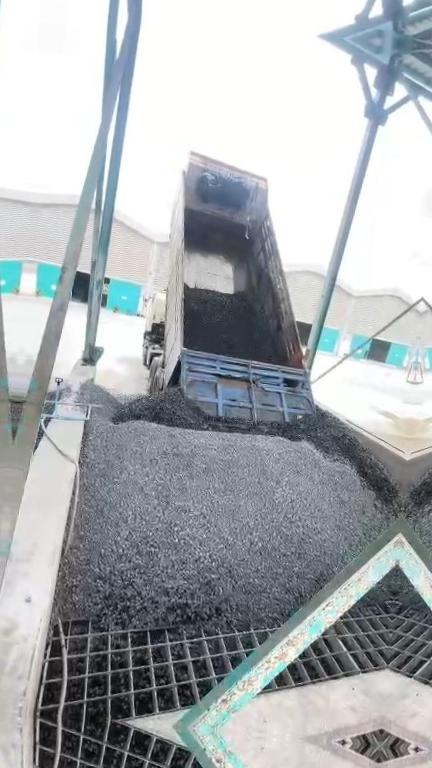gravel: (56, 377, 403, 630), (183, 287, 281, 364), (365, 565, 397, 603)
sand: (368, 403, 411, 453)
